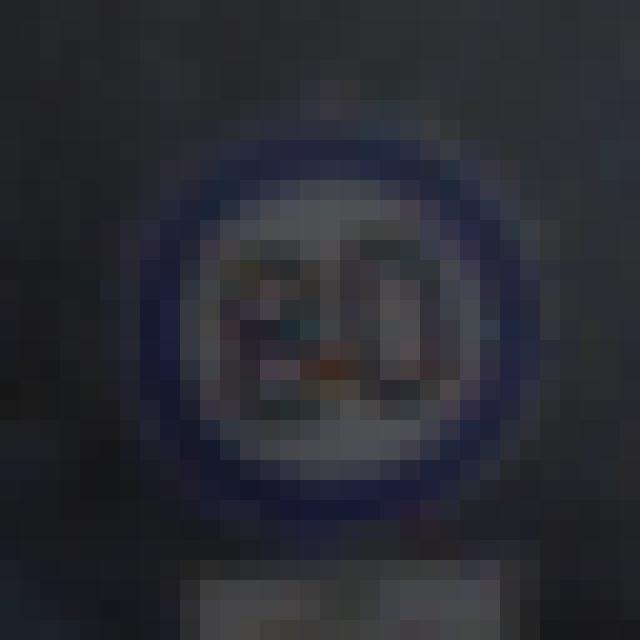SPEED-LIMIT-80: (124, 113, 538, 524)
